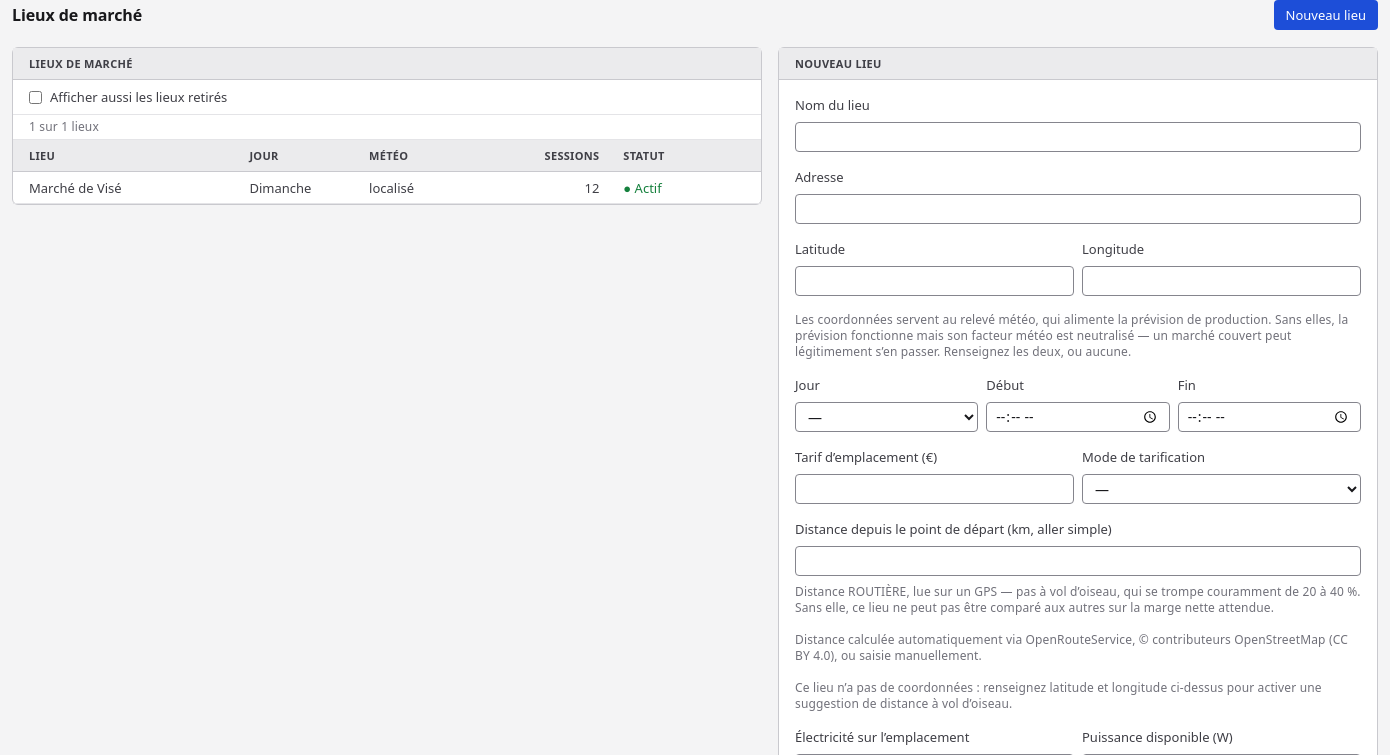
Test: Lieux de marché — la suggestion de distance ne fait jamais foi › sans distance confirmée, la suggestion apparaît — et seulement quand le départ est saisi
This screenshot has width=1390, height=755.
Click the text "Marché de Visé" at x=125, y=188, box 13,172 -> 237,204
(page scrolled)
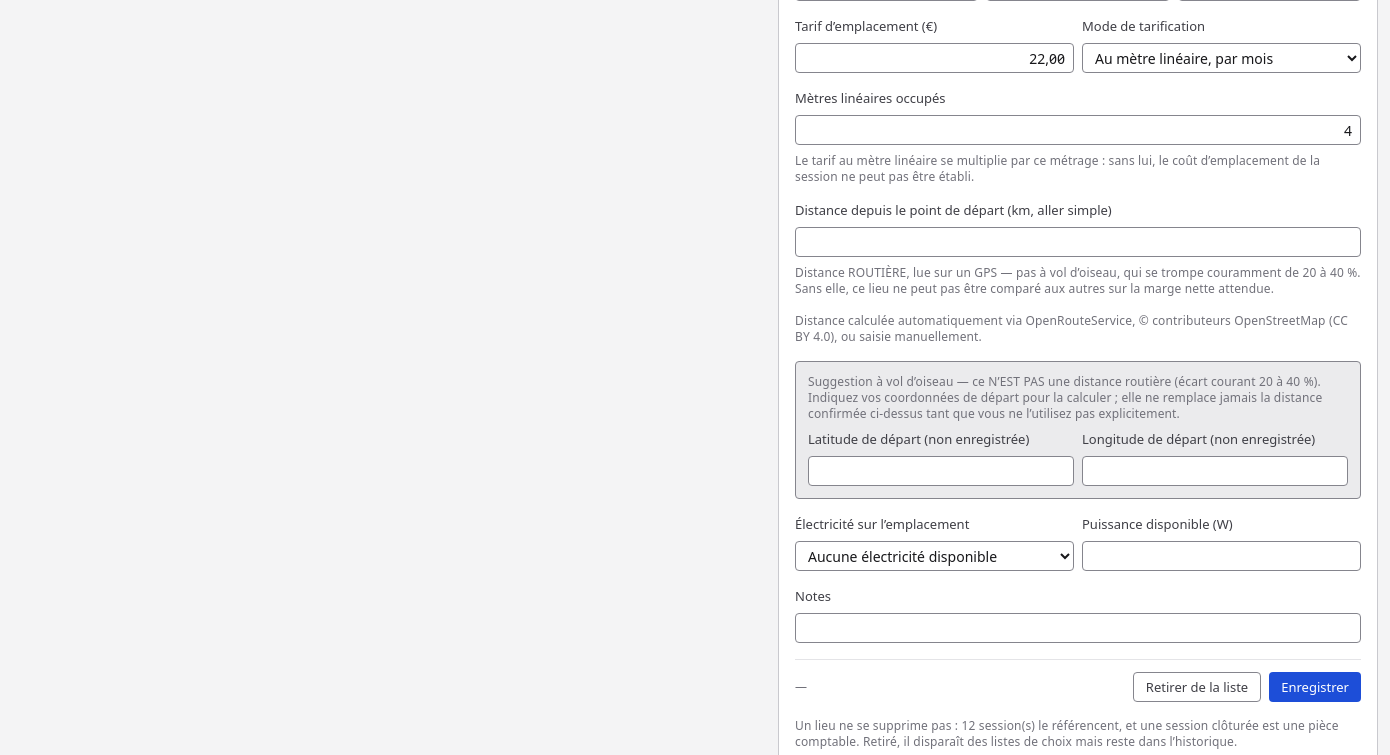
Check: the button "Utiliser cette estimation" is not shown
Type "50,45" into the field named "origineLatitude" at x=941, y=471, box 808,456 -> 1074,486
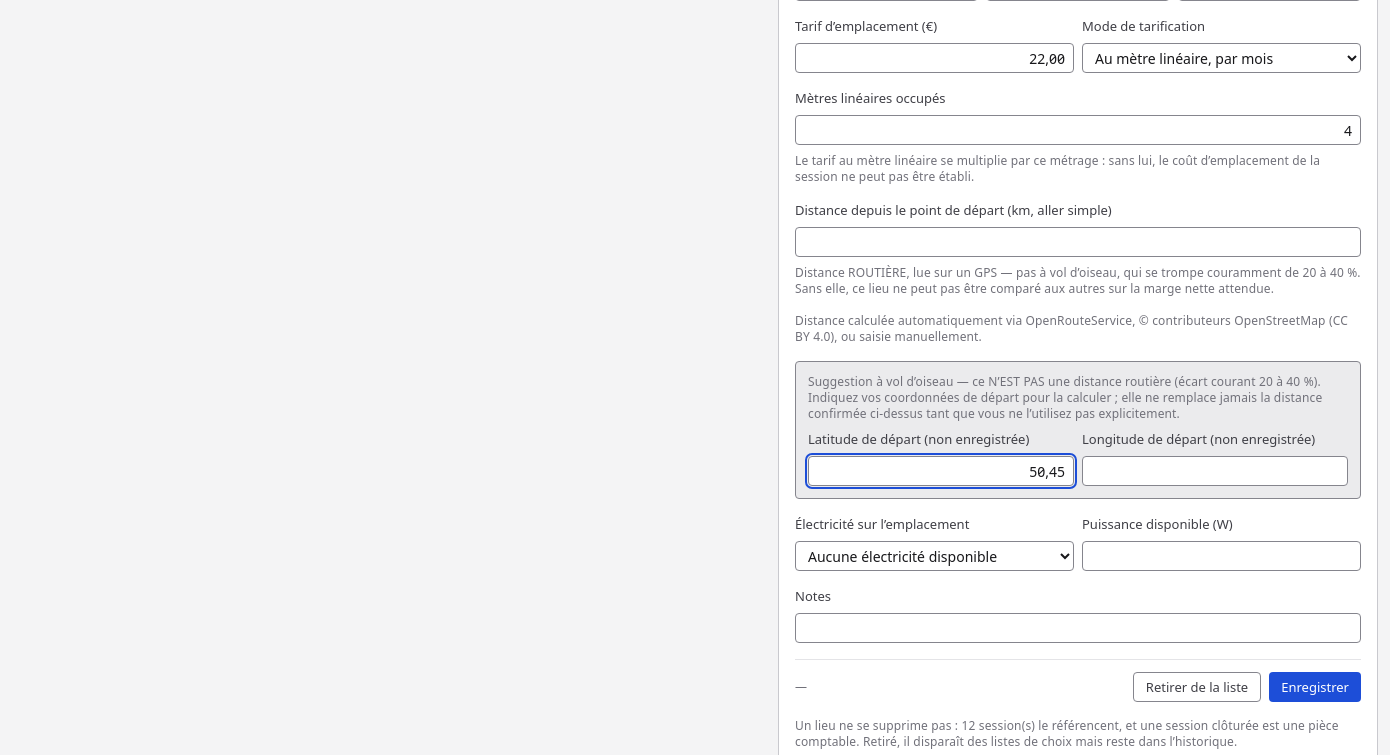
Type "4,87" into the field named "origineLongitude" at x=1215, y=471, box 1082,456 -> 1348,486
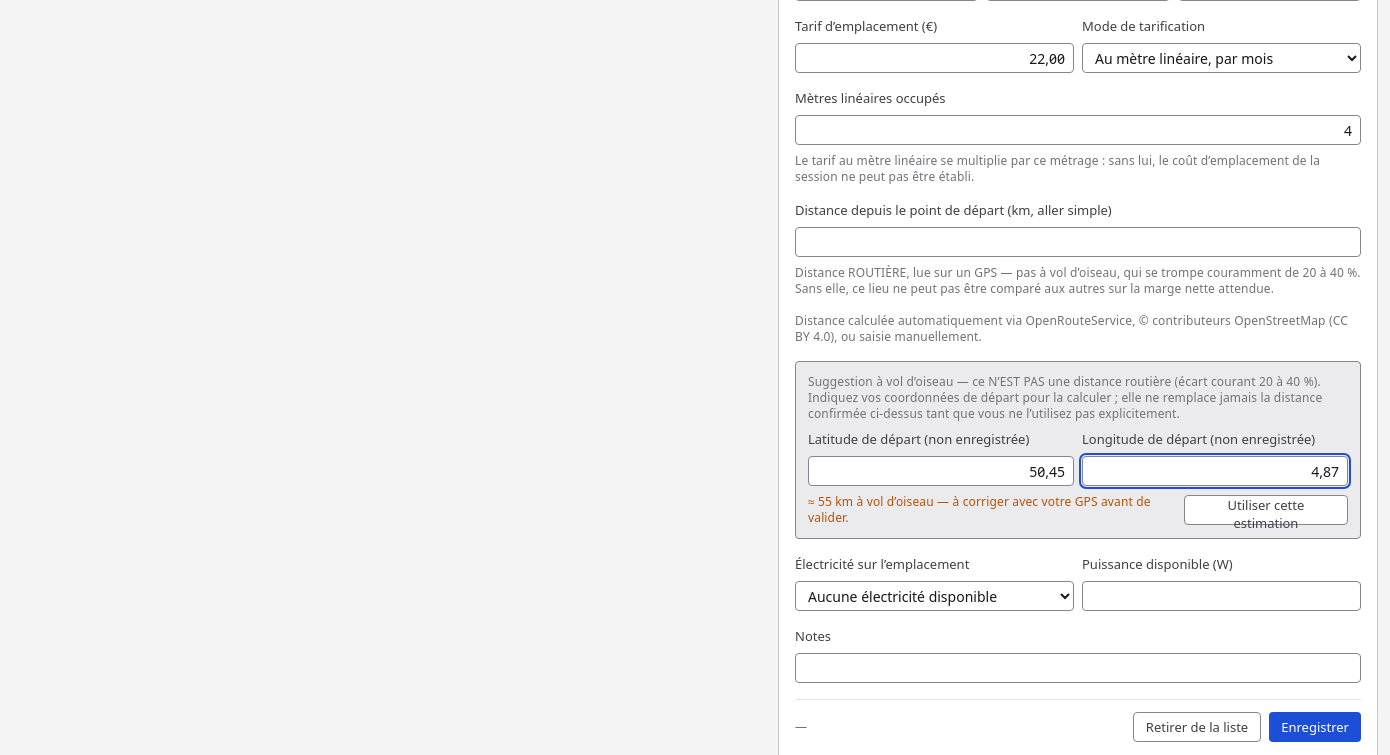
Check: the field named "distanceKm" is empty, box 795,227 -> 1361,257
Check: the text "à vol d’oiseau — à corriger avec votre GPS" is shown, box 808,493 -> 1151,526
Click the button "Utiliser cette estimation" at x=1266, y=510, box 1184,495 -> 1348,525
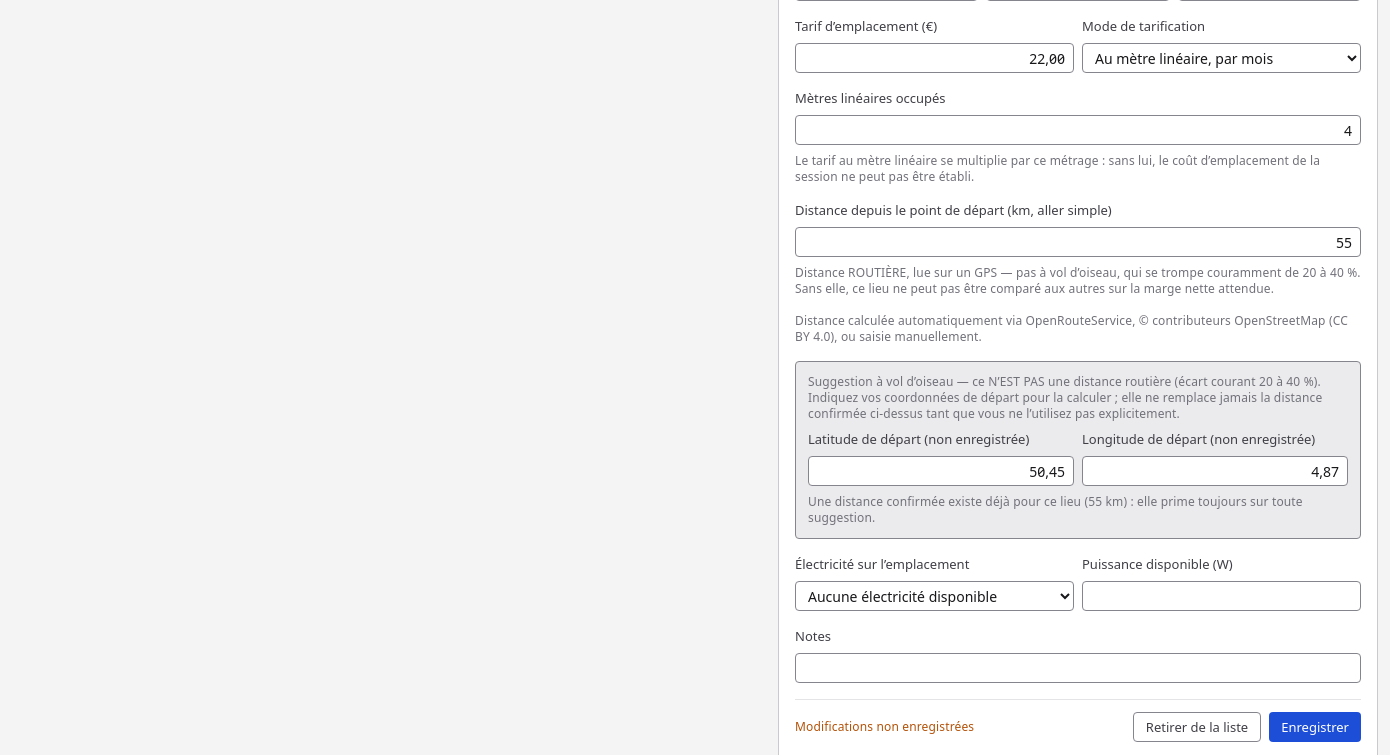
Check: the field named "distanceKm" is not empty, box 795,227 -> 1361,257
